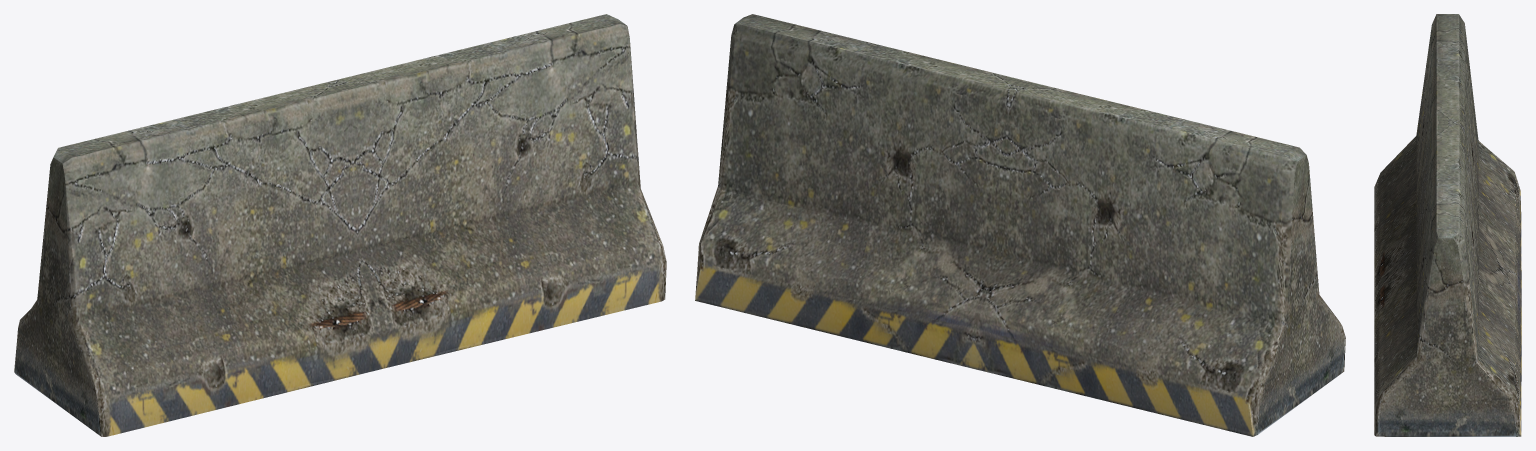
File: block.dae
3 renders of one model, left to right at view 1: azimuth 30°, elevation 25°; view 2: azimuth 150°, elevation 25°; view 3: azimuth 270°, elevation 25°, orthographic. The views are drawn at different scales.
Visible parts, largest first — view 1: block; view 2: block; view 3: block.
Boxes of the visible parts, x1,y1,x2,y2 form: block: (14,14,666,436); block: (695,14,1345,436); block: (1374,14,1521,436).
Bounding box in the file's own units: 19.03 × 8.01 × 5.26.
1 material, 1 textured.
